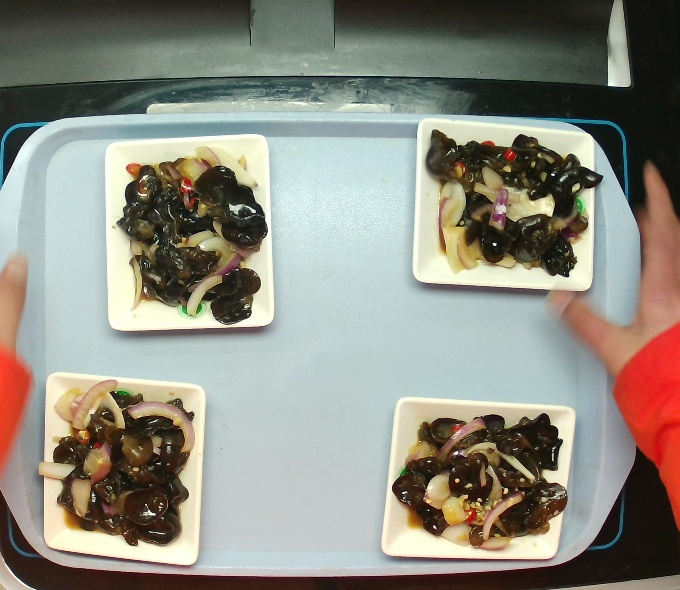wcq-LiangBanMuEr: (380, 406, 582, 554), (120, 152, 265, 315), (43, 386, 190, 544), (430, 133, 592, 275)
